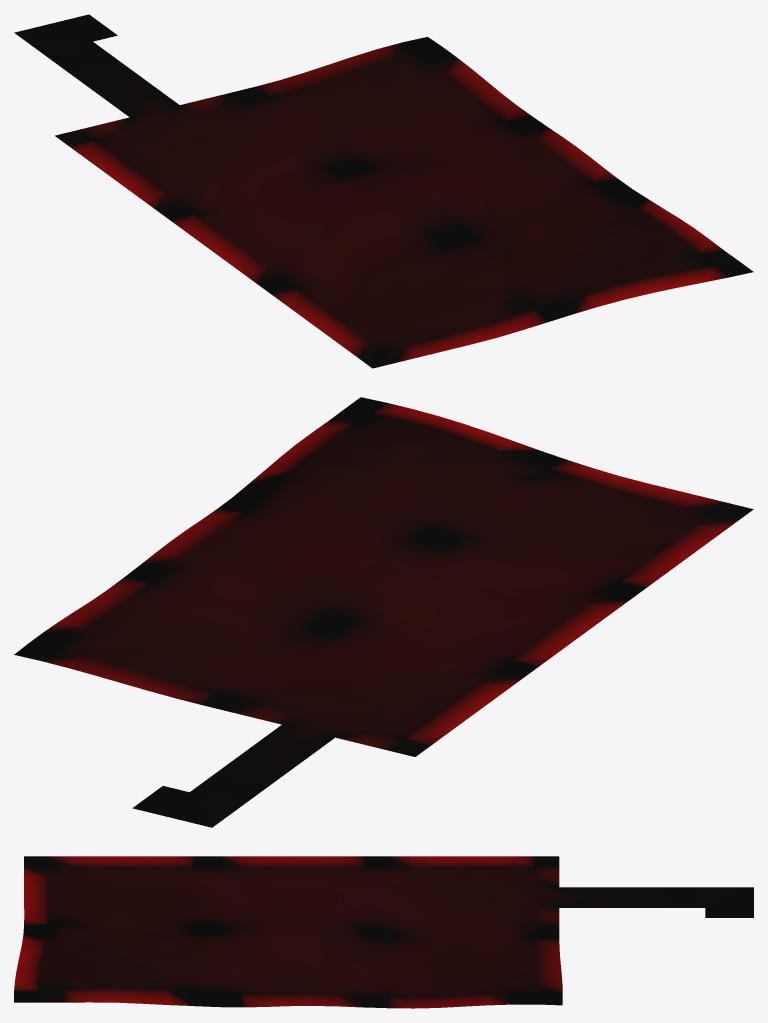
File: mountain_base_basement_floor.obj
The picture shows the model from 3 angles, top to bottom: view 1: azimuth 30°, elevation 25°; view 2: azimuth 150°, elevation 25°; view 3: azimuth 270°, elevation 25°; orthographic projection. The views are drawn at different scales.
Visible parts, largest first — view 1: BasementFloor; view 2: BasementFloor; view 3: BasementFloor.
Boxes of the visible parts, x1,y1,x2,y2 form: BasementFloor: [14, 14, 753, 368]; BasementFloor: [14, 397, 753, 827]; BasementFloor: [14, 856, 753, 1008].
Bounding box in the file's own units: 14.99 × 0.8857 × 30.42.
